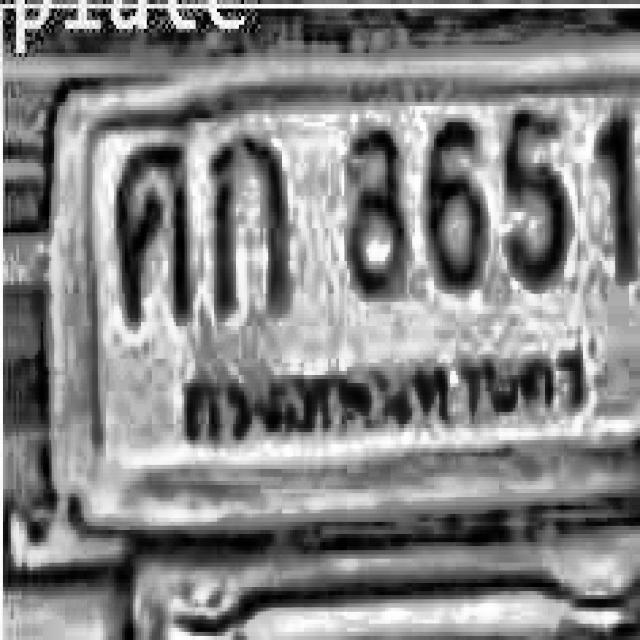license-plate: (40, 48, 640, 558)
